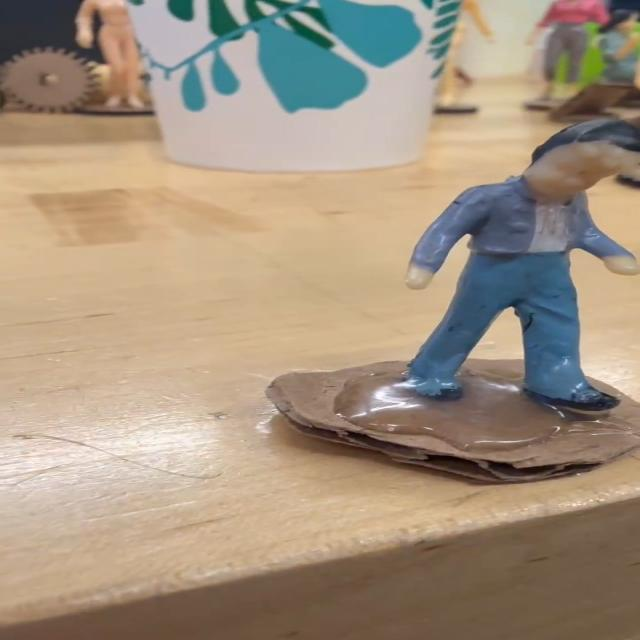Authorized: (323, 111, 640, 443)
